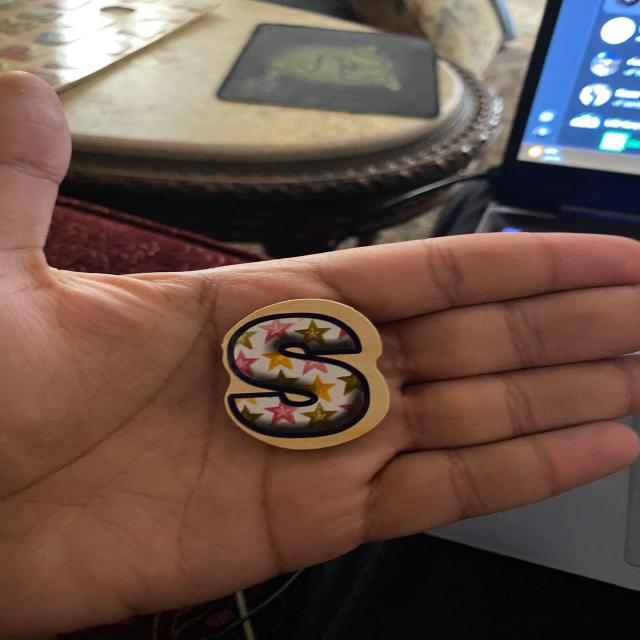S: (223, 299, 388, 449)
